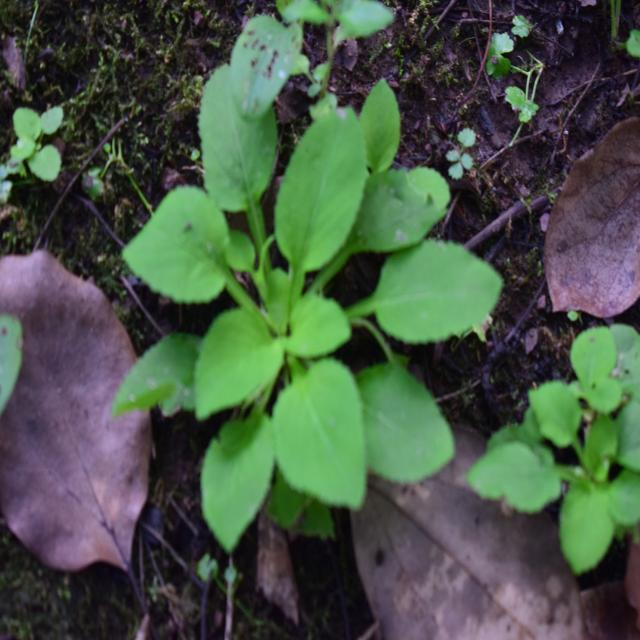Viola: (122, 102, 484, 540)
